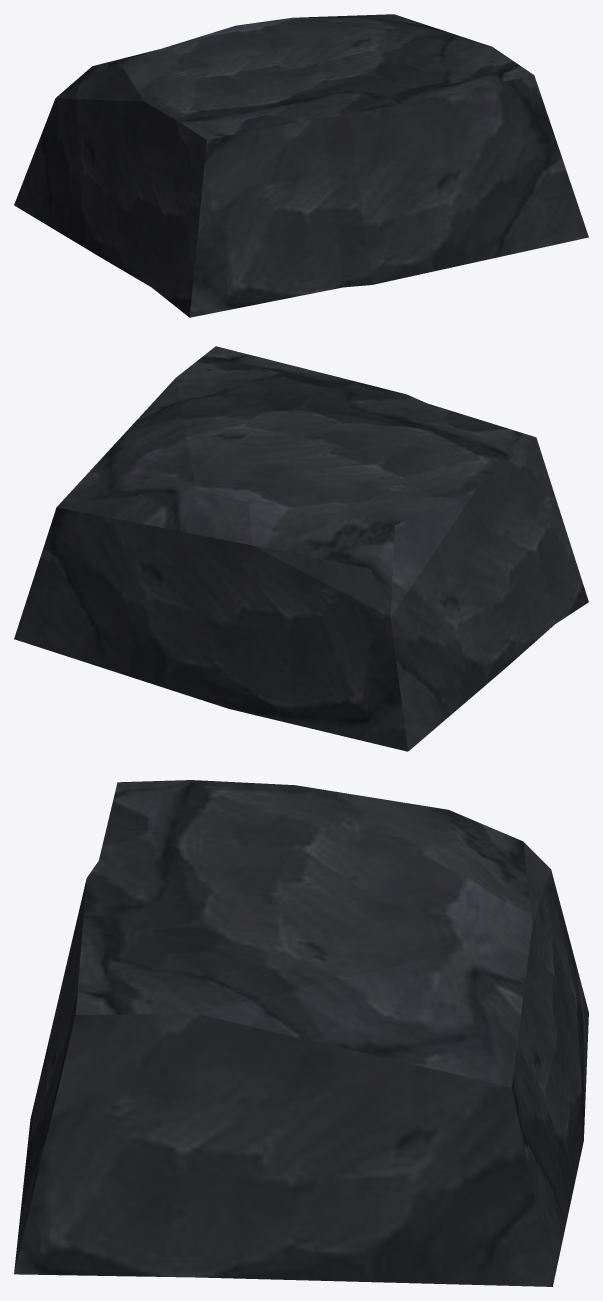
File: gpebble_square_3.glb
The picture shows the model from 3 angles, top to bottom: view 1: azimuth 30°, elevation 25°; view 2: azimuth 150°, elevation 25°; view 3: azimuth 270°, elevation 25°; orthographic projection. The views are drawn at different scales.
Parts seen in each view (by area): view 1: model; view 2: model; view 3: model.
Part boxes in pixels (x1,y1,x2,y2): model: (14,14,588,317); model: (14,346,588,751); model: (14,780,588,1286).
Bounding box in the file's own units: 0.3722 × 0.1617 × 0.3177.
1 material, 1 textured.
